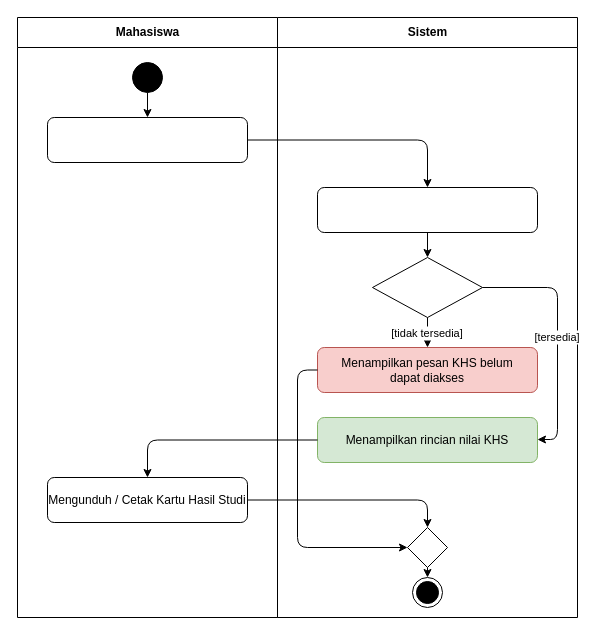
Some shapes in this 599 by 635 pixel diagram are drawn without their labels. The centre of each missing label's shape, as x and y in pixels:
"Data KHS tersedia?" goes at (427,287).
"Membuka menu Kartu Hasil Studi dan memilih semester" goes at (147,139).
"Memeriksa ketersediaan data KHS" goes at (427,209).
